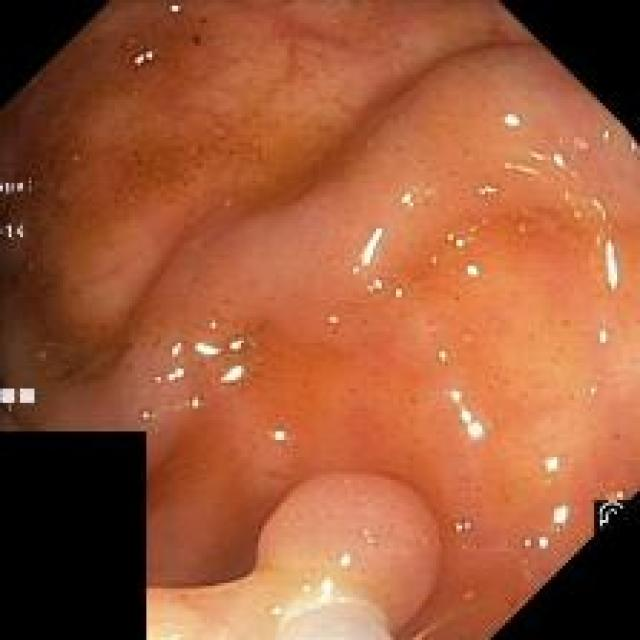Polyps: (148, 471, 439, 640)
